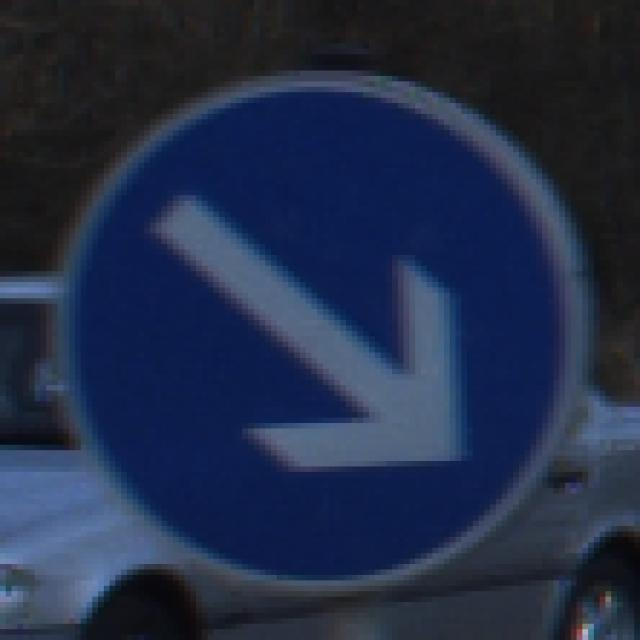compulsary keep right: (55, 72, 595, 588)
